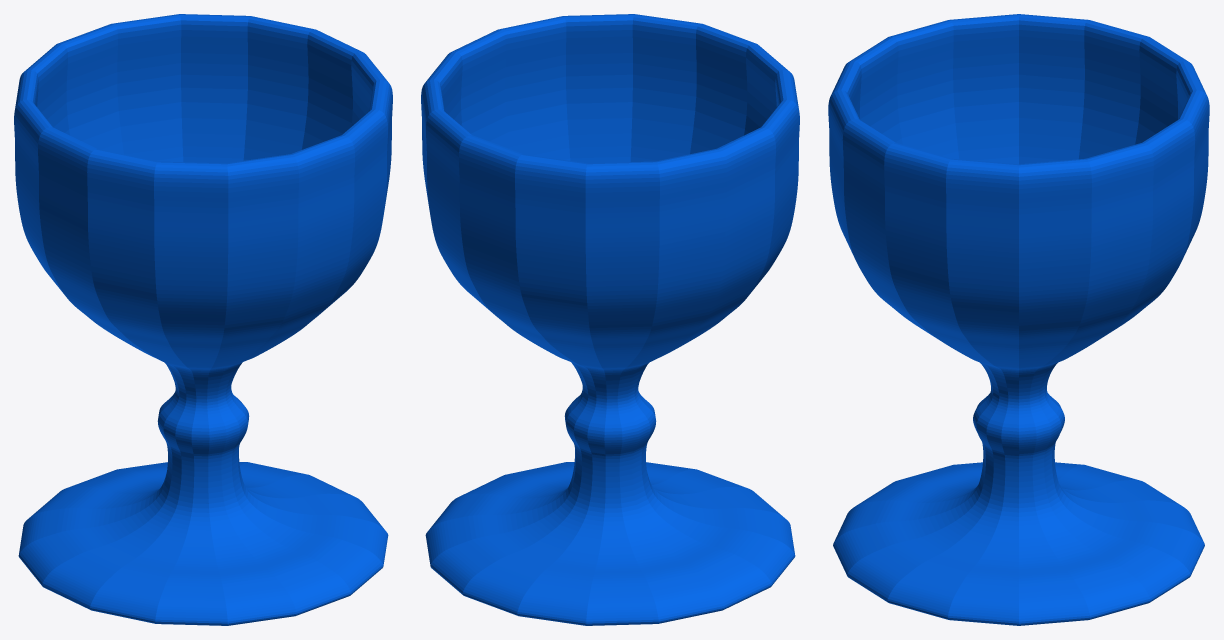
Rendered from cup.glb.
The picture shows the model from 3 angles, left to right: view 1: azimuth 30°, elevation 25°; view 2: azimuth 150°, elevation 25°; view 3: azimuth 270°, elevation 25°; orthographic projection.
Visible parts, largest first — view 1: BezierCurve; view 2: BezierCurve; view 3: BezierCurve.
Part boxes in pixels (x1,y1,x2,y2): BezierCurve: (14, 14, 392, 625); BezierCurve: (421, 14, 799, 625); BezierCurve: (828, 14, 1209, 625).
Bounding box in the file's own units: 5.93 × 7.91 × 5.93.
